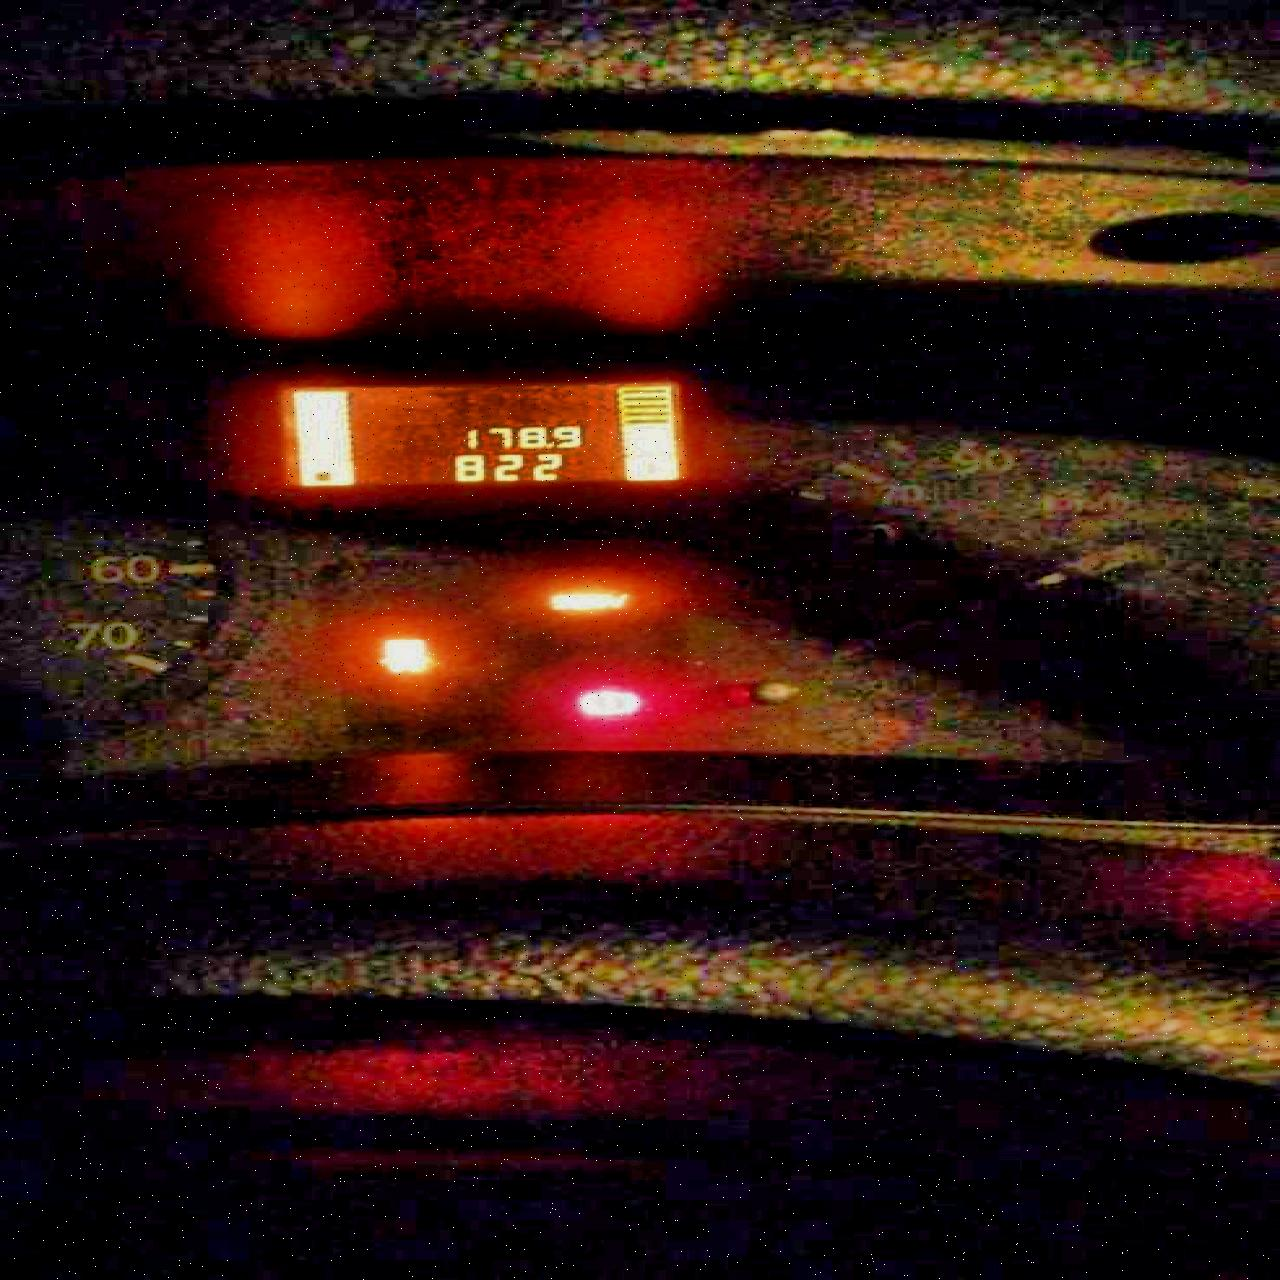-: (544, 441, 551, 448)
1: (463, 425, 478, 449)
2: (492, 452, 523, 482), (533, 451, 561, 481)
7: (484, 425, 512, 449)
8: (452, 452, 484, 482), (516, 424, 544, 448)
9: (551, 423, 583, 448)
odometer: (258, 370, 710, 493)
